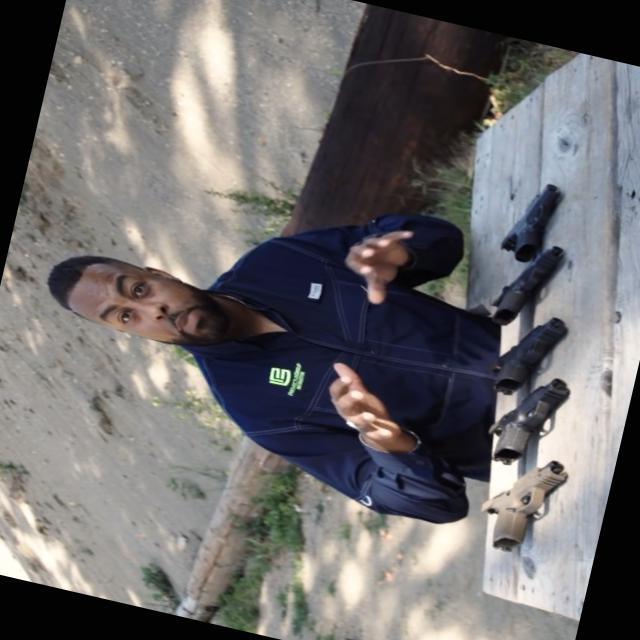handgun: (464, 416, 596, 569), (478, 222, 594, 347), (478, 362, 584, 482), (478, 296, 584, 413), (486, 173, 590, 289)
